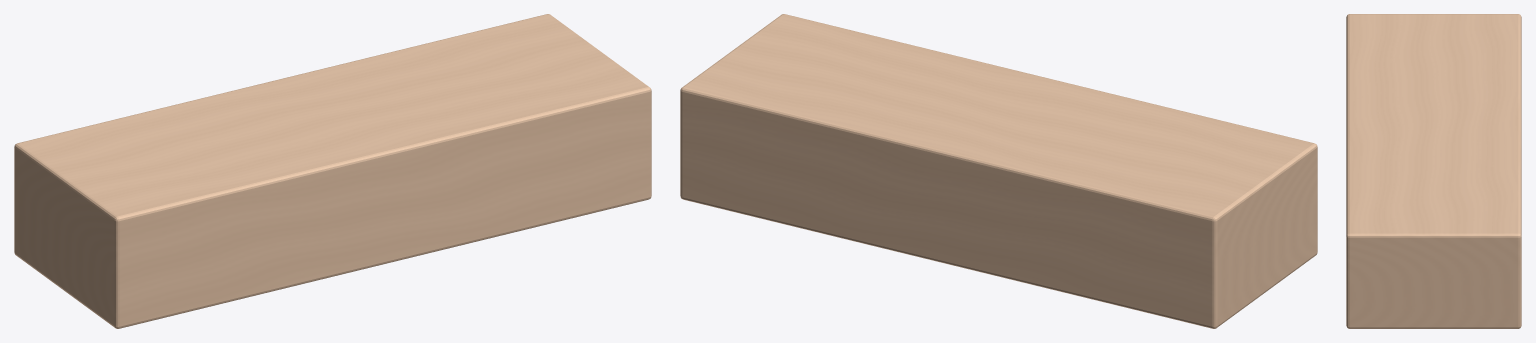
The model's file is peach.glb.
3 views of the same model, side by side, from view 1: azimuth 30°, elevation 25°; view 2: azimuth 150°, elevation 25°; view 3: azimuth 270°, elevation 25° (orthographic). The views are drawn at different scales.
Visible parts, largest first — view 1: Block_L01_S1; view 2: Block_L01_S1; view 3: Block_L01_S1.
Boxes of the visible parts, left/top/right/bottom form: Block_L01_S1: left=14, top=14, right=651, bottom=328; Block_L01_S1: left=680, top=14, right=1317, bottom=328; Block_L01_S1: left=1346, top=14, right=1521, bottom=328.
Size of the model in its own units: 0.075 by 0.015 by 0.025.
Materials: 1 (1 with a texture image).
